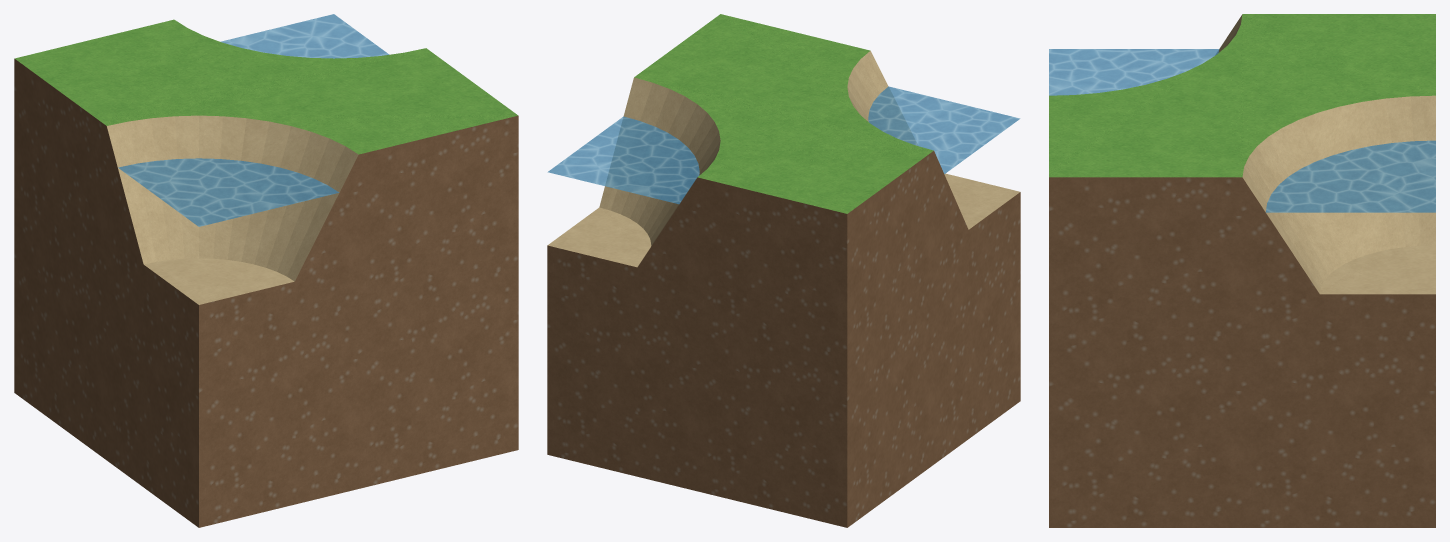
File: Water_Diagonal_F.fbx
3 renders of one model, left to right at view 1: azimuth 30°, elevation 25°; view 2: azimuth 150°, elevation 25°; view 3: azimuth 270°, elevation 25°, orthographic. The views are drawn at different scales.
Visible parts, largest first — view 1: Water_Diagonal_F, Water_Diagonal_F_Water; view 2: Water_Diagonal_F, Water_Diagonal_F_Water; view 3: Water_Diagonal_F, Water_Diagonal_F_Water.
Part boxes in pixels (x1=…): Water_Diagonal_F: x1=14, y1=19, x2=518, y2=527; Water_Diagonal_F_Water: x1=118, y1=14, x2=388, y2=226; Water_Diagonal_F: x1=547, y1=14, x2=1020, y2=527; Water_Diagonal_F_Water: x1=547, y1=86, x2=1020, y2=204; Water_Diagonal_F: x1=1049, y1=14, x2=1435, y2=527; Water_Diagonal_F_Water: x1=1049, y1=49, x2=1435, y2=212.
Size of the model in its own units: 3 by 3 by 3.
Materials: 4 (4 with a texture image).
